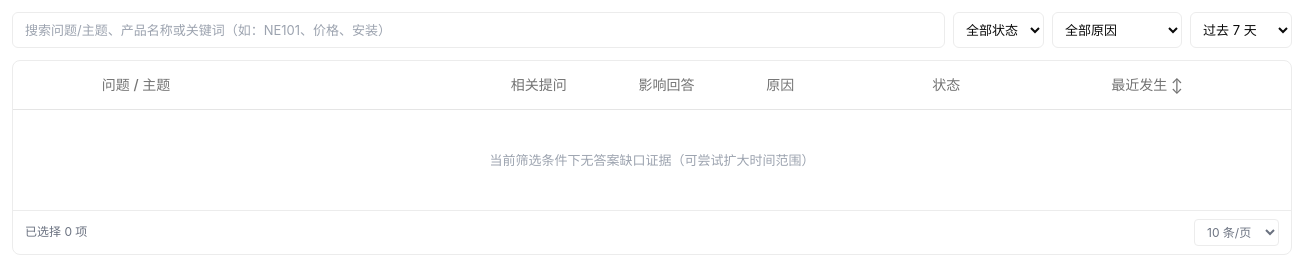
AnswerGapsTab 空态四态区分(#59 G1) › zero:全部时间 + 无筛选而队列为空 → 真实零态(与其余三态互斥且视觉可分)
The width and height of the screenshot is (1304, 272).
Expected: the text "当前筛选条件下无答案缺口证据（可尝试扩大时间范围）" is shown, [490,152,814,168]
Select "全部时间" in the dropdown named "分析时间窗" at [1241, 30], box [1190,12,1292,48]
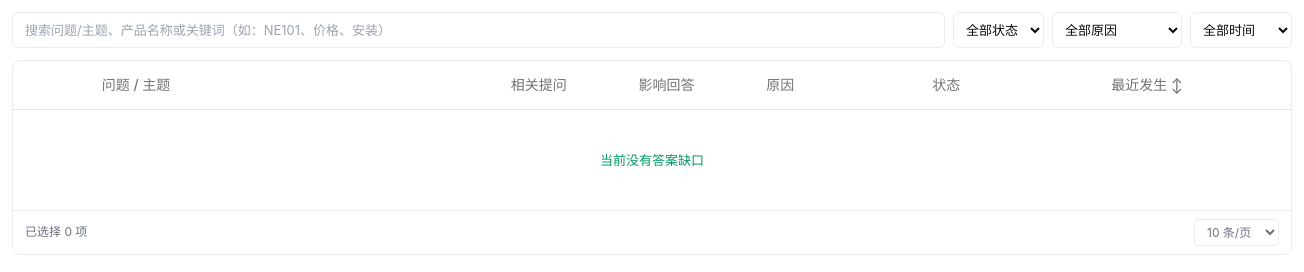
Result: the text "当前没有答案缺口" is shown at [600,152,704,168]
Result: the text "可尝试扩大时间范围" is gone
